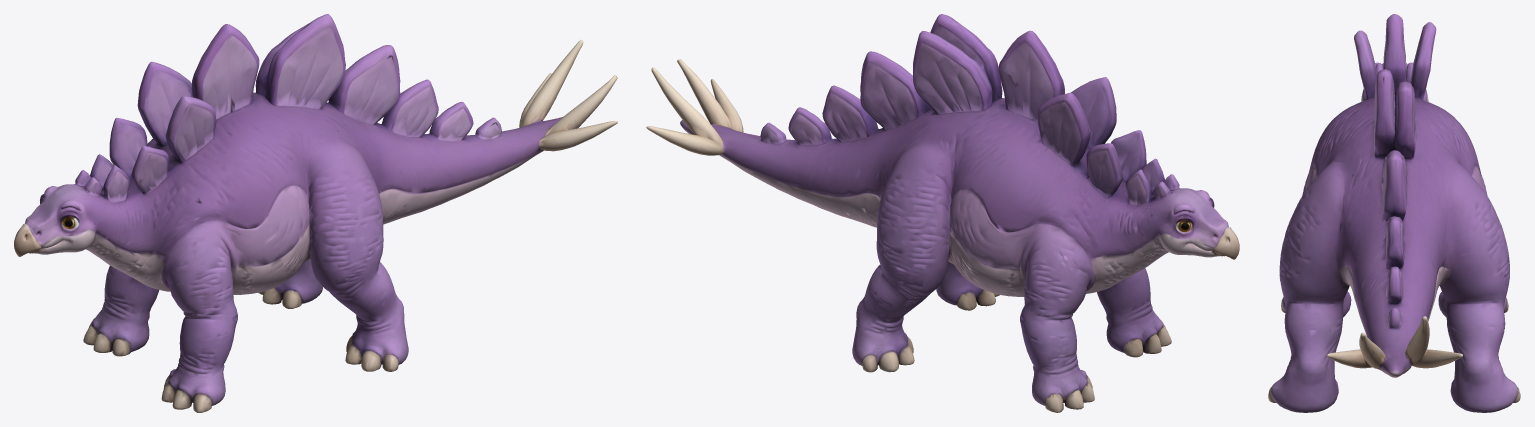
Rendered from stegosaurus-parts.glb.
3 renders of one model, left to right at view 1: azimuth 30°, elevation 25°; view 2: azimuth 150°, elevation 25°; view 3: azimuth 270°, elevation 25°, orthographic. The views are drawn at different scales.
Parts seen in each view (by area): view 1: tripo_part_0, tripo_part_2, tripo_part_6, tripo_part_3, tripo_part_7, tripo_part_8, tripo_part_4, tripo_part_9, tripo_part_5, tripo_part_12, tripo_part_13, tripo_part_11 (+6 smaller); view 2: tripo_part_0, tripo_part_1, tripo_part_4, tripo_part_3, tripo_part_7, tripo_part_6, tripo_part_8, tripo_part_9, tripo_part_5, tripo_part_10, tripo_part_11, tripo_part_12 (+6 smaller); view 3: tripo_part_0, tripo_part_1, tripo_part_2, tripo_part_7, tripo_part_9, tripo_part_10, tripo_part_8, tripo_part_5, tripo_part_13, tripo_part_12, tripo_part_11, tripo_part_16 (+2 smaller).
Boxes of the visible parts, box(x1,y1,x2,y2) form: tripo_part_0: box(88, 92, 562, 294); tripo_part_2: box(307, 139, 408, 371); tripo_part_6: box(161, 219, 241, 412); tripo_part_3: box(14, 170, 170, 291); tripo_part_7: box(255, 14, 345, 109); tripo_part_8: box(191, 24, 259, 119); tripo_part_4: box(83, 265, 159, 356); tripo_part_9: box(328, 45, 400, 125); tripo_part_5: box(137, 61, 192, 145); tripo_part_12: box(165, 96, 216, 162); tripo_part_13: box(539, 75, 617, 151); tripo_part_11: box(381, 79, 438, 137); tripo_part_0: box(680, 98, 1166, 296); tripo_part_1: box(852, 143, 951, 372); tripo_part_4: box(1015, 222, 1095, 412); tripo_part_3: box(1086, 174, 1239, 293); tripo_part_7: box(913, 14, 1002, 114); tripo_part_6: box(1097, 268, 1171, 357); tripo_part_8: box(998, 30, 1064, 122); tripo_part_9: box(860, 51, 929, 130); tripo_part_5: box(1037, 92, 1090, 165); tripo_part_10: box(646, 67, 723, 155); tripo_part_11: box(822, 85, 878, 142); tripo_part_12: box(1071, 77, 1116, 149); tripo_part_0: box(1306, 98, 1483, 377); tripo_part_1: box(1440, 161, 1520, 412); tripo_part_2: box(1268, 161, 1349, 412); tripo_part_7: box(1374, 69, 1415, 159); tripo_part_9: box(1382, 150, 1407, 220); tripo_part_10: box(1405, 316, 1462, 368); tripo_part_8: box(1383, 14, 1406, 88); tripo_part_5: box(1410, 22, 1436, 100); tripo_part_13: box(1327, 332, 1385, 369); tripo_part_12: box(1354, 30, 1377, 99); tripo_part_11: box(1385, 216, 1403, 269); tripo_part_16: box(1387, 266, 1402, 305).
Bounding box in the file's own units: 0.9801 × 0.5241 × 0.3577.
Materials: 1 (1 with a texture image).
